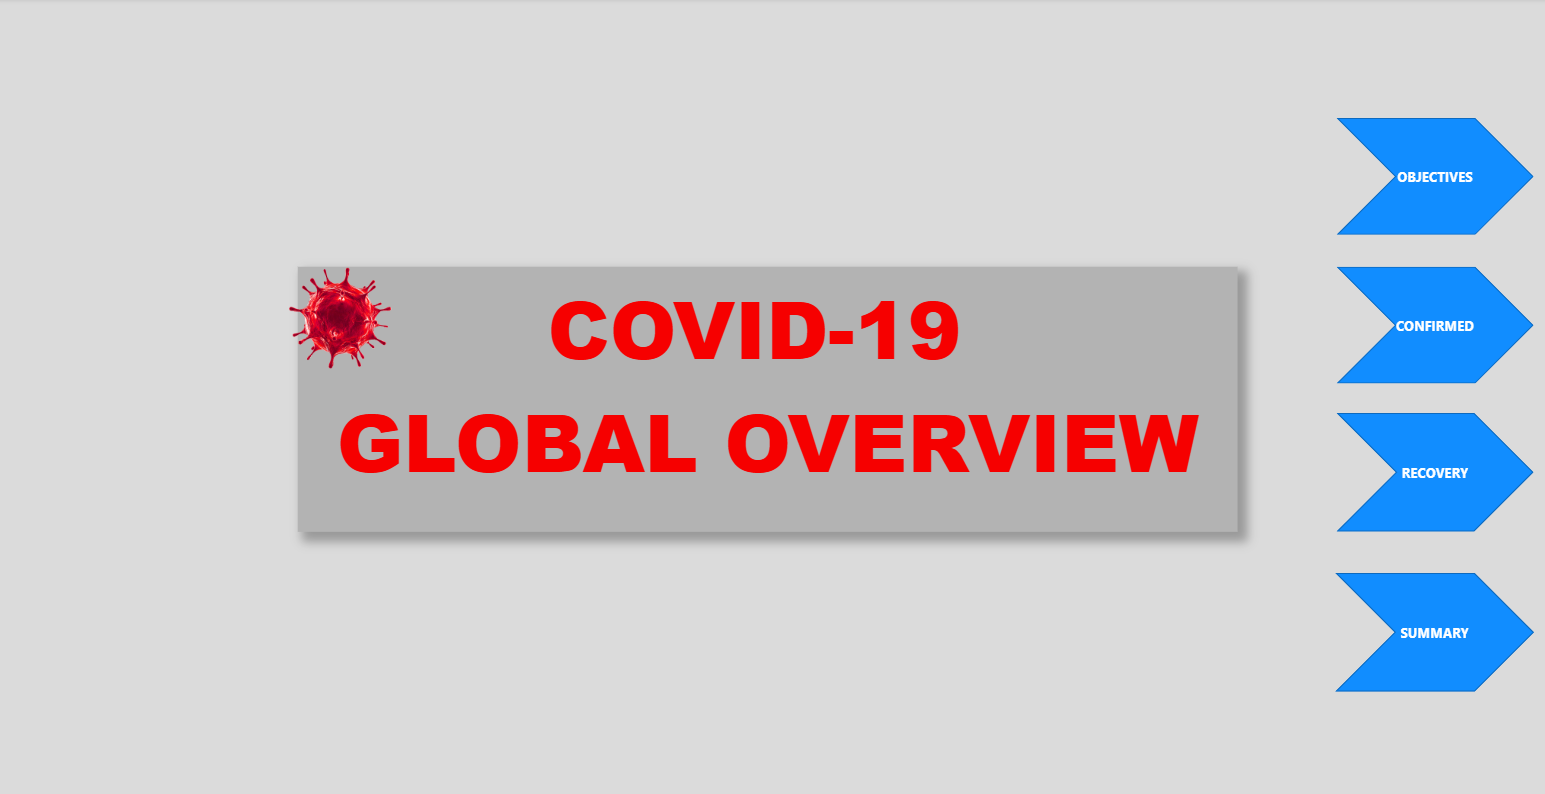

The dashboard page shown, as its layout file describes it:
{"tool":"powerbi","page":{"name":"INTRODUCTION","canvas":[1550,800],"ordinal":0},"visuals":[{"type":"textbox","box":[298.8,269.1,941.7,265.6],"z":0},{"type":"shape","box":[1340,269.1,197.4,117.1],"z":1000},{"type":"shape","box":[1340,415.8,197.4,118.8],"z":3000},{"type":"shape","box":[1338.3,576.5,199.2,118.8],"z":5000},{"type":"image","box":[267.3,258.6,148.5,124],"z":6000},{"type":"shape","box":[1340,120.5,197.4,117.1],"z":7000}]}

Visuals, with their boxes in screenshot pixels (x1, y1, x2, y2), scaled from the page's 1550x800 canvas onto the 1545x794 screenshot:
textbox: [left=298, top=267, right=1236, bottom=531]
shape: [left=1336, top=267, right=1532, bottom=383]
shape: [left=1336, top=413, right=1532, bottom=531]
shape: [left=1334, top=572, right=1533, bottom=690]
image: [left=266, top=257, right=414, bottom=380]
shape: [left=1336, top=120, right=1532, bottom=236]
